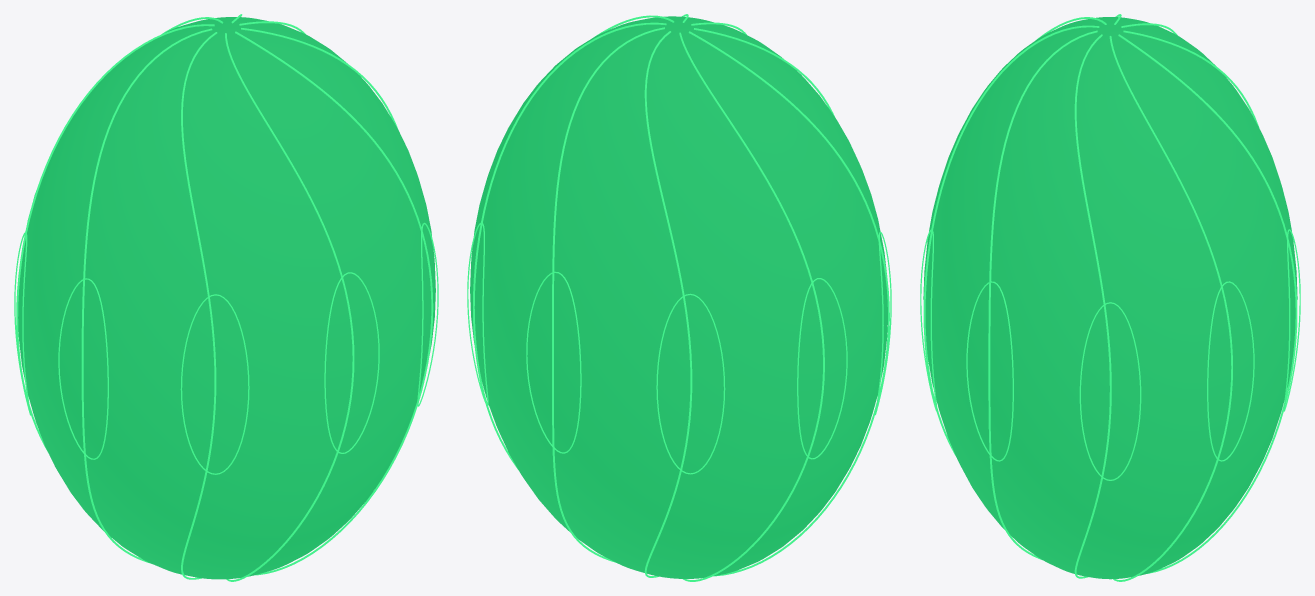
Rendered from sylra_verdant_shell.glb.
3 views of the same model, side by side, from view 1: azimuth 30°, elevation 25°; view 2: azimuth 150°, elevation 25°; view 3: azimuth 270°, elevation 25° (orthographic).
Visible parts, largest first — view 1: Sylra_ShellMembrane, Sylra_ShellVeins, Sylra_ShellLeaves; view 2: Sylra_ShellMembrane, Sylra_ShellVeins, Sylra_ShellLeaves; view 3: Sylra_ShellMembrane, Sylra_ShellVeins, Sylra_ShellLeaves.
Part boxes in pixels (x1=…): Sylra_ShellMembrane: x1=18, y1=17, x2=435, y2=579; Sylra_ShellVeins: x1=16, y1=14, x2=433, y2=581; Sylra_ShellLeaves: x1=14, y1=222, x2=438, y2=474; Sylra_ShellMembrane: x1=470, y1=16, x2=887, y2=578; Sylra_ShellVeins: x1=473, y1=14, x2=889, y2=581; Sylra_ShellLeaves: x1=467, y1=222, x2=891, y2=474; Sylra_ShellMembrane: x1=923, y1=17, x2=1297, y2=579; Sylra_ShellVeins: x1=923, y1=14, x2=1297, y2=581; Sylra_ShellLeaves: x1=920, y1=229, x2=1300, y2=480.
Size of what is drawn, in the model's own units: 0.9662 by 1.33 by 0.8547.
